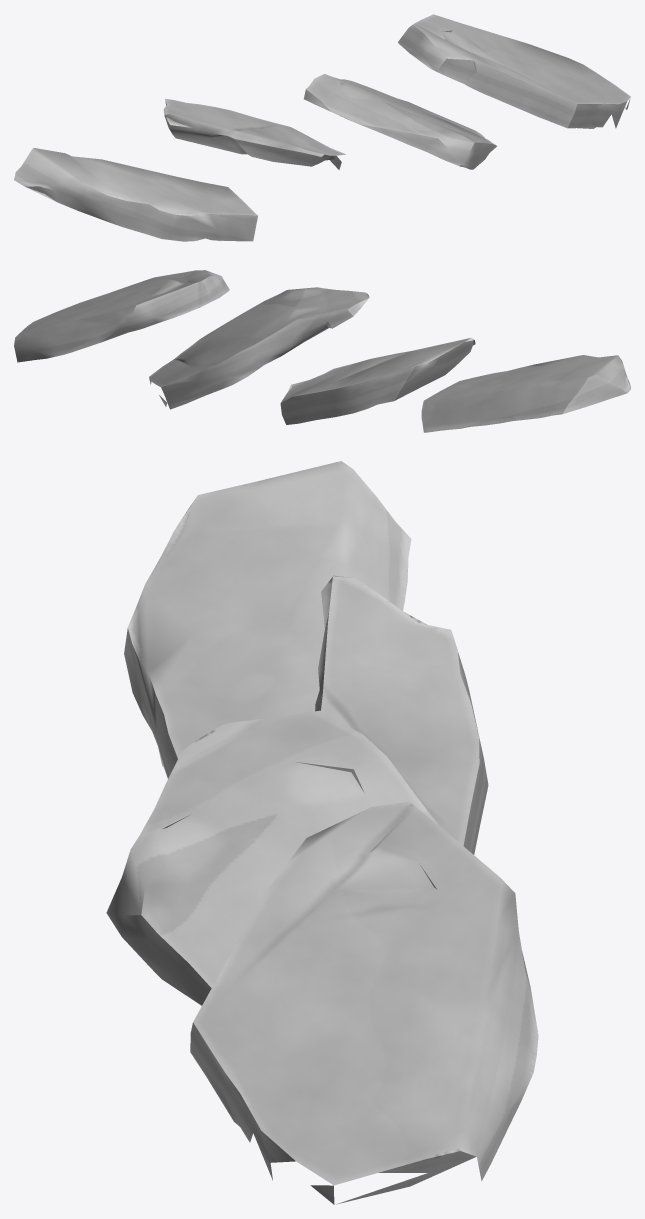
The model's file is sculpted_slab_04.glb.
The picture shows the model from 3 angles, top to bottom: view 1: azimuth 30°, elevation 25°; view 2: azimuth 150°, elevation 25°; view 3: azimuth 270°, elevation 25°; orthographic projection. The views are drawn at different scales.
Parts seen in each view (by area): view 1: sculpted_slab_04; view 2: sculpted_slab_04; view 3: sculpted_slab_04.
Part boxes in pixels (x1,y1,x2,y2): sculpted_slab_04: [14, 14, 630, 241]; sculpted_slab_04: [14, 270, 630, 432]; sculpted_slab_04: [106, 461, 538, 1204].
Bounding box in the file's own units: 5.85 × 1.15 × 1.86.
Materials: 1 (1 with a texture image).
